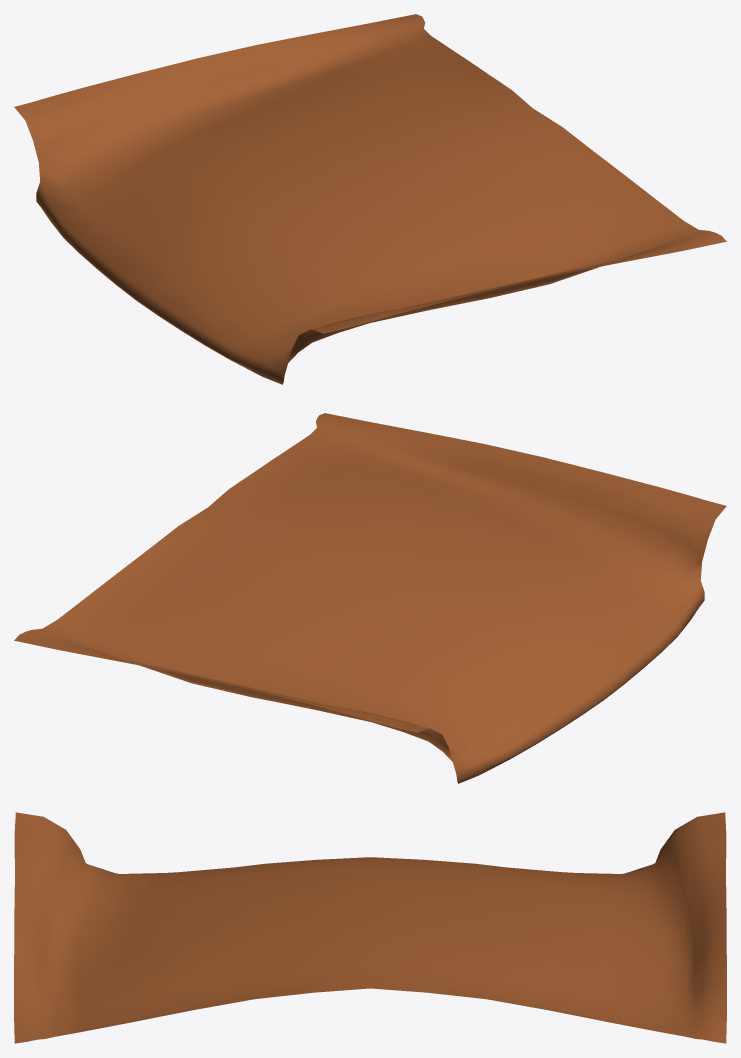
File: cofre.obj
3 views of the same model, one above another, from view 1: azimuth 30°, elevation 25°; view 2: azimuth 150°, elevation 25°; view 3: azimuth 270°, elevation 25° (orthographic). The views are drawn at different scales.
Visible parts, largest first — view 1: Hood_ONELVXE|Misc_Car_Paint; view 2: Hood_ONELVXE|Misc_Car_Paint; view 3: Hood_ONELVXE|Misc_Car_Paint.
Boxes of the visible parts, x1=… form: Hood_ONELVXE|Misc_Car_Paint: x1=14, y1=14, x2=726, y2=384; Hood_ONELVXE|Misc_Car_Paint: x1=14, y1=413, x2=726, y2=783; Hood_ONELVXE|Misc_Car_Paint: x1=14, y1=812, x2=726, y2=1043.
Size of the model in its own units: 0.9075 by 0.1974 by 1.12.
